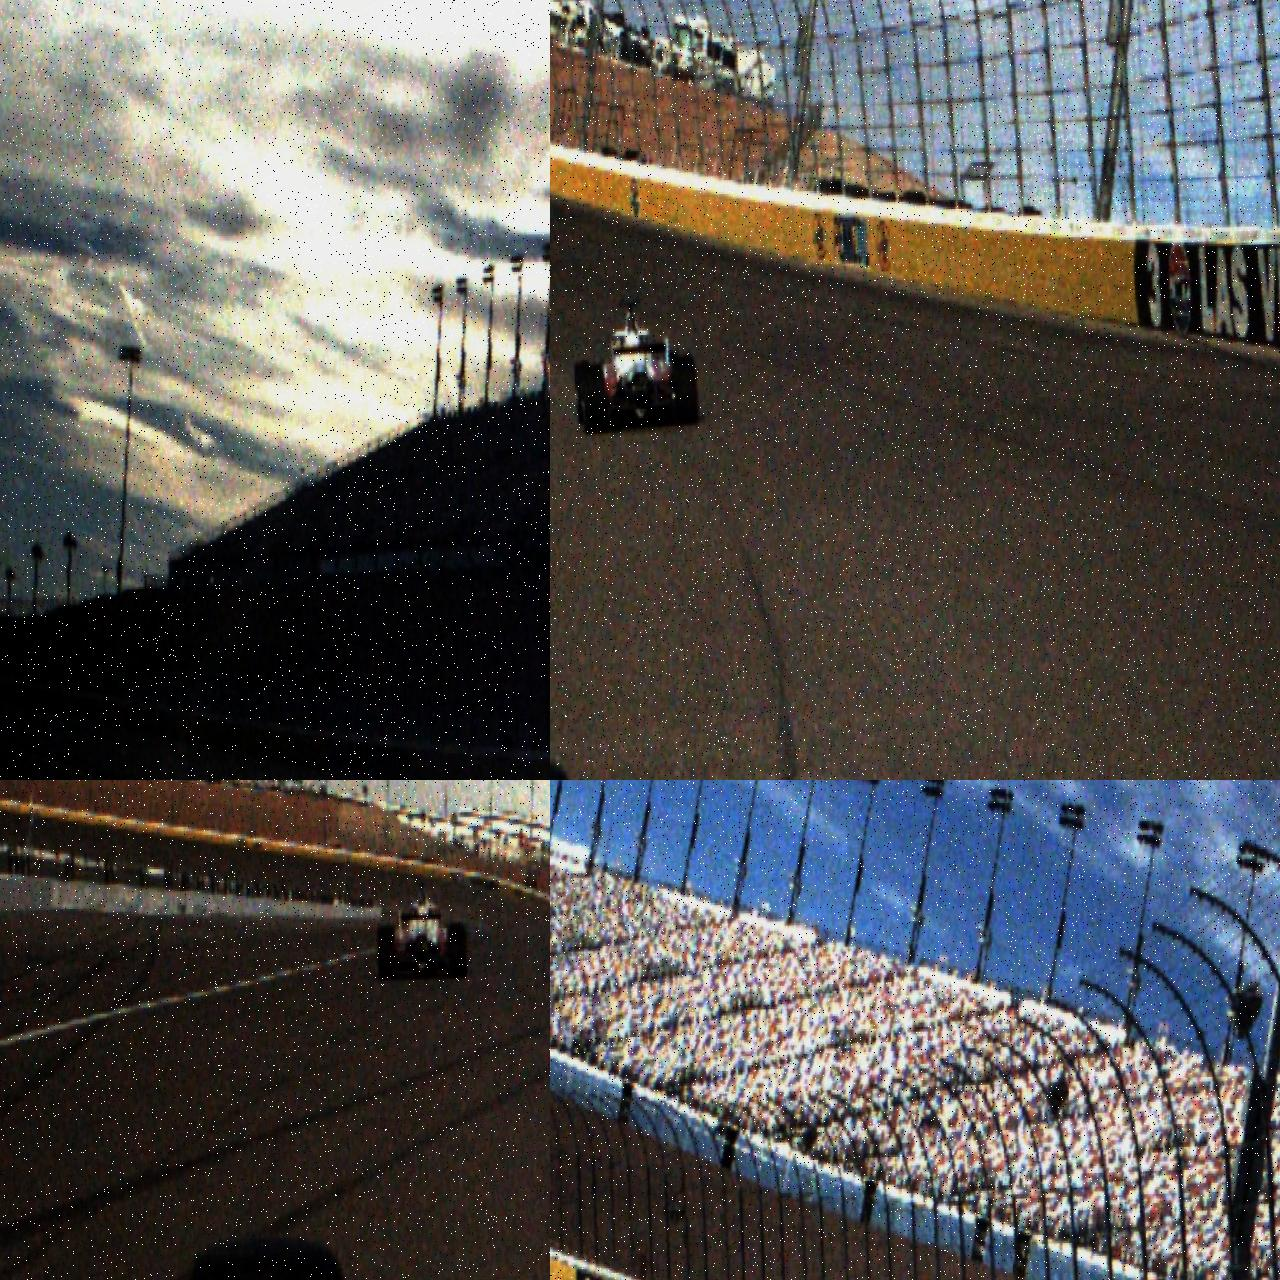AV: (572, 297, 698, 436), (374, 874, 470, 980)
Wheel: (672, 355, 698, 426), (580, 366, 606, 434), (574, 360, 593, 426), (446, 921, 468, 978), (376, 922, 396, 981)
